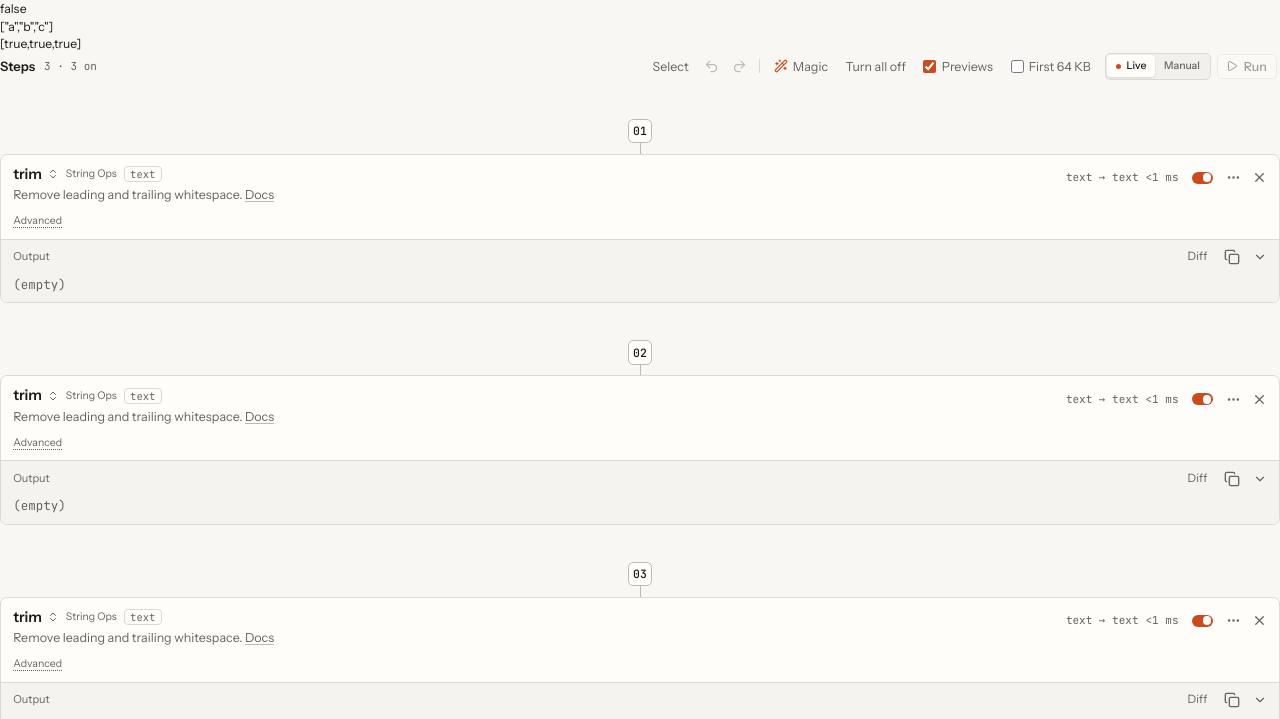
<StepList /> selection mode › explains why a non-contiguous selection cannot be grouped
Click the button "Select": (671, 66) [646,54,696,78]
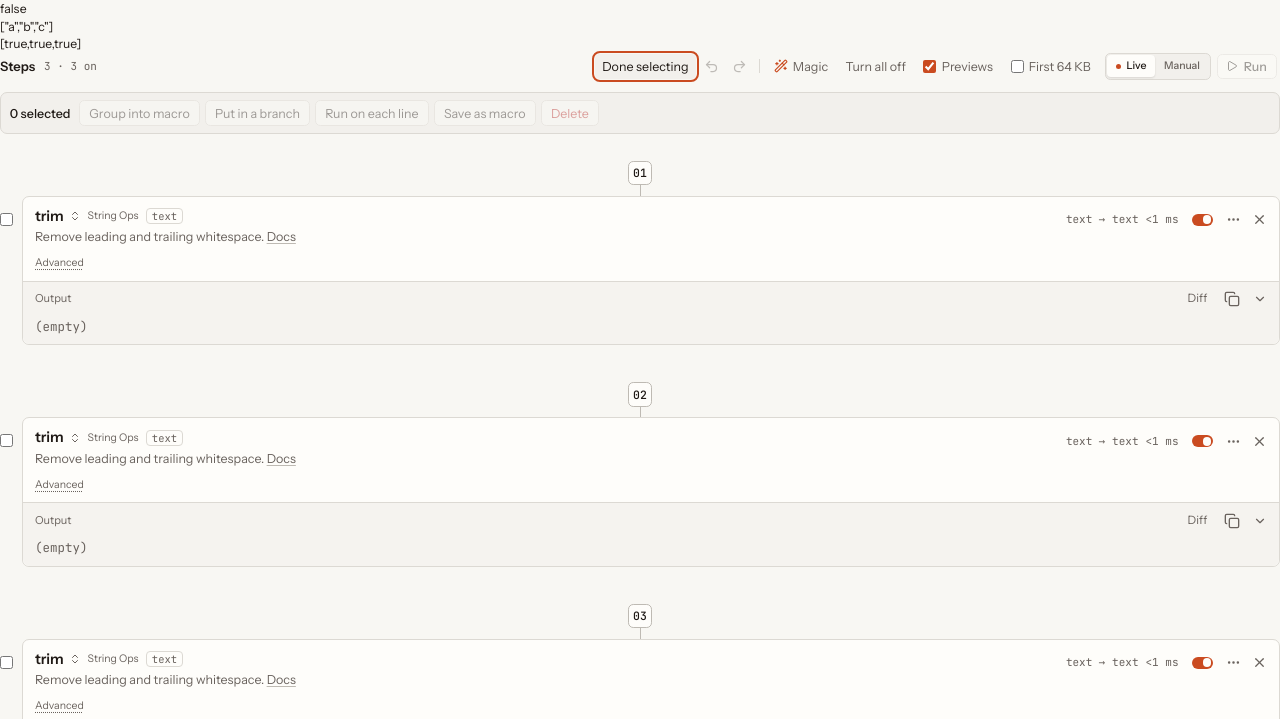
Click the checkbox named "select step 1": (6, 219) [0,212,13,226]
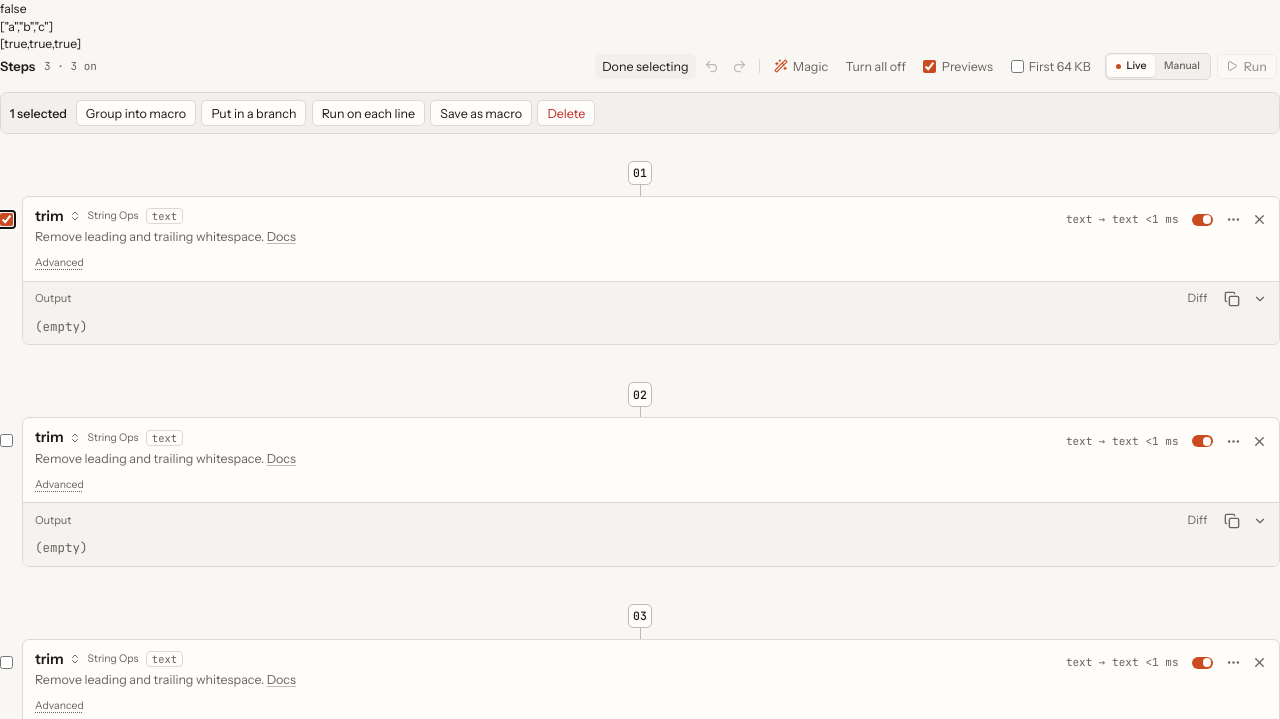
Click the checkbox named "select step 3": (6, 662) [0,656,13,668]
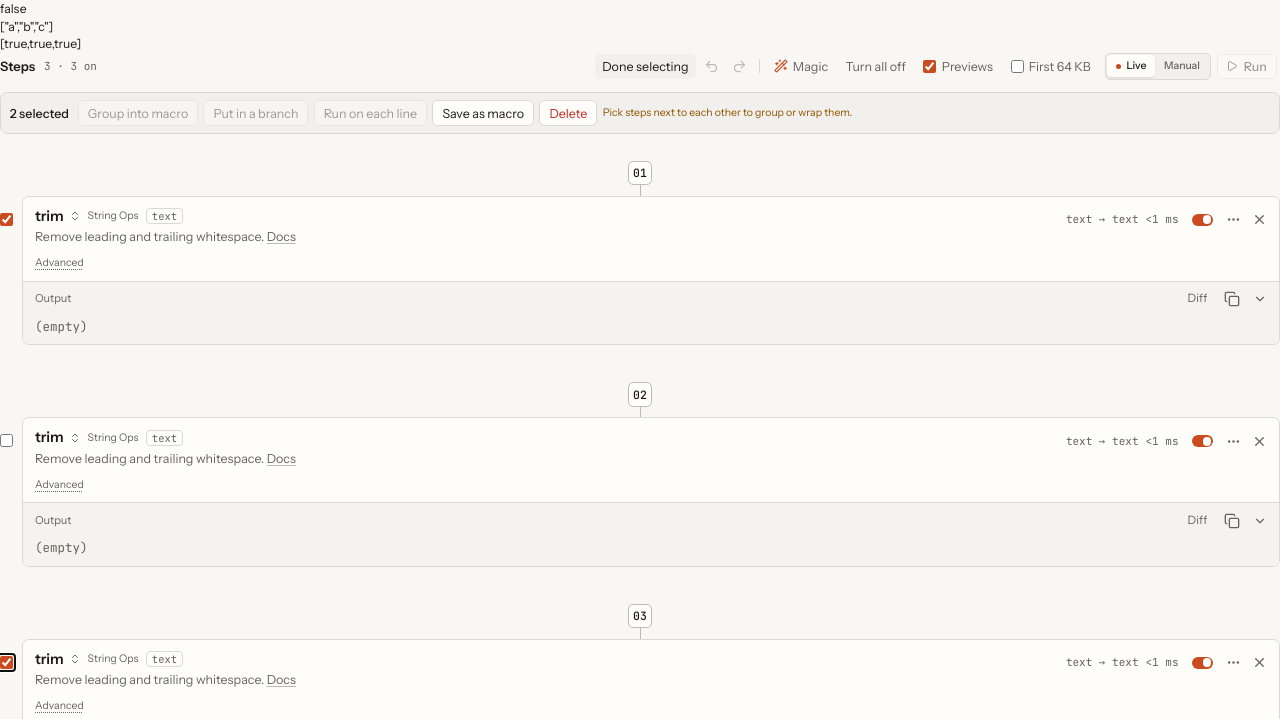
Check: the text "Pick steps next to each other to group or wrap them." is shown, box [603,106,852,120]
Check: the button "Group into macro" is disabled, box [78,100,198,126]
Check: the button "Put in a branch" is disabled, box [203,100,308,126]
